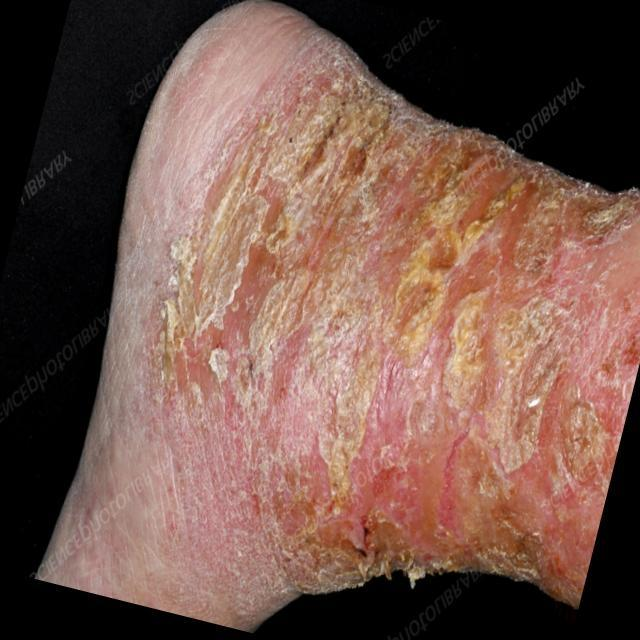Eczema: (154, 79, 634, 600)
